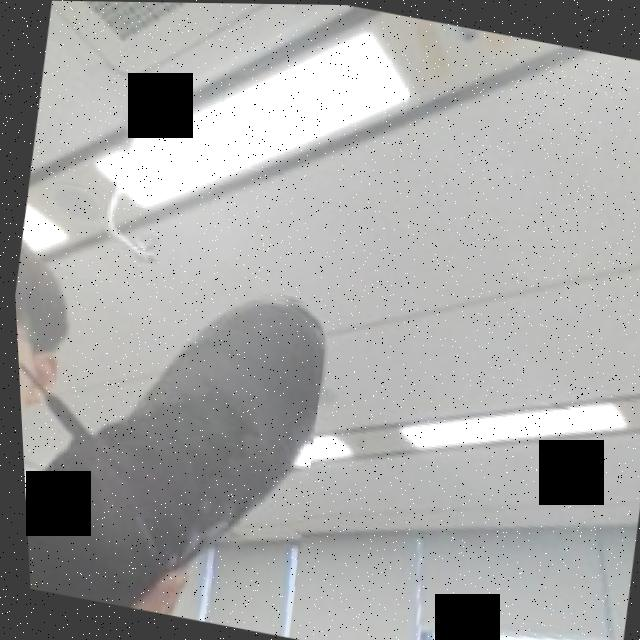shoe: (10, 244, 340, 637)
